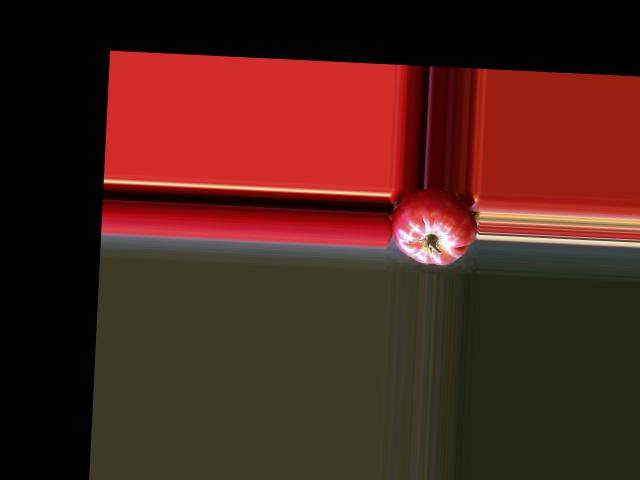tomato: (390, 186, 479, 266)
